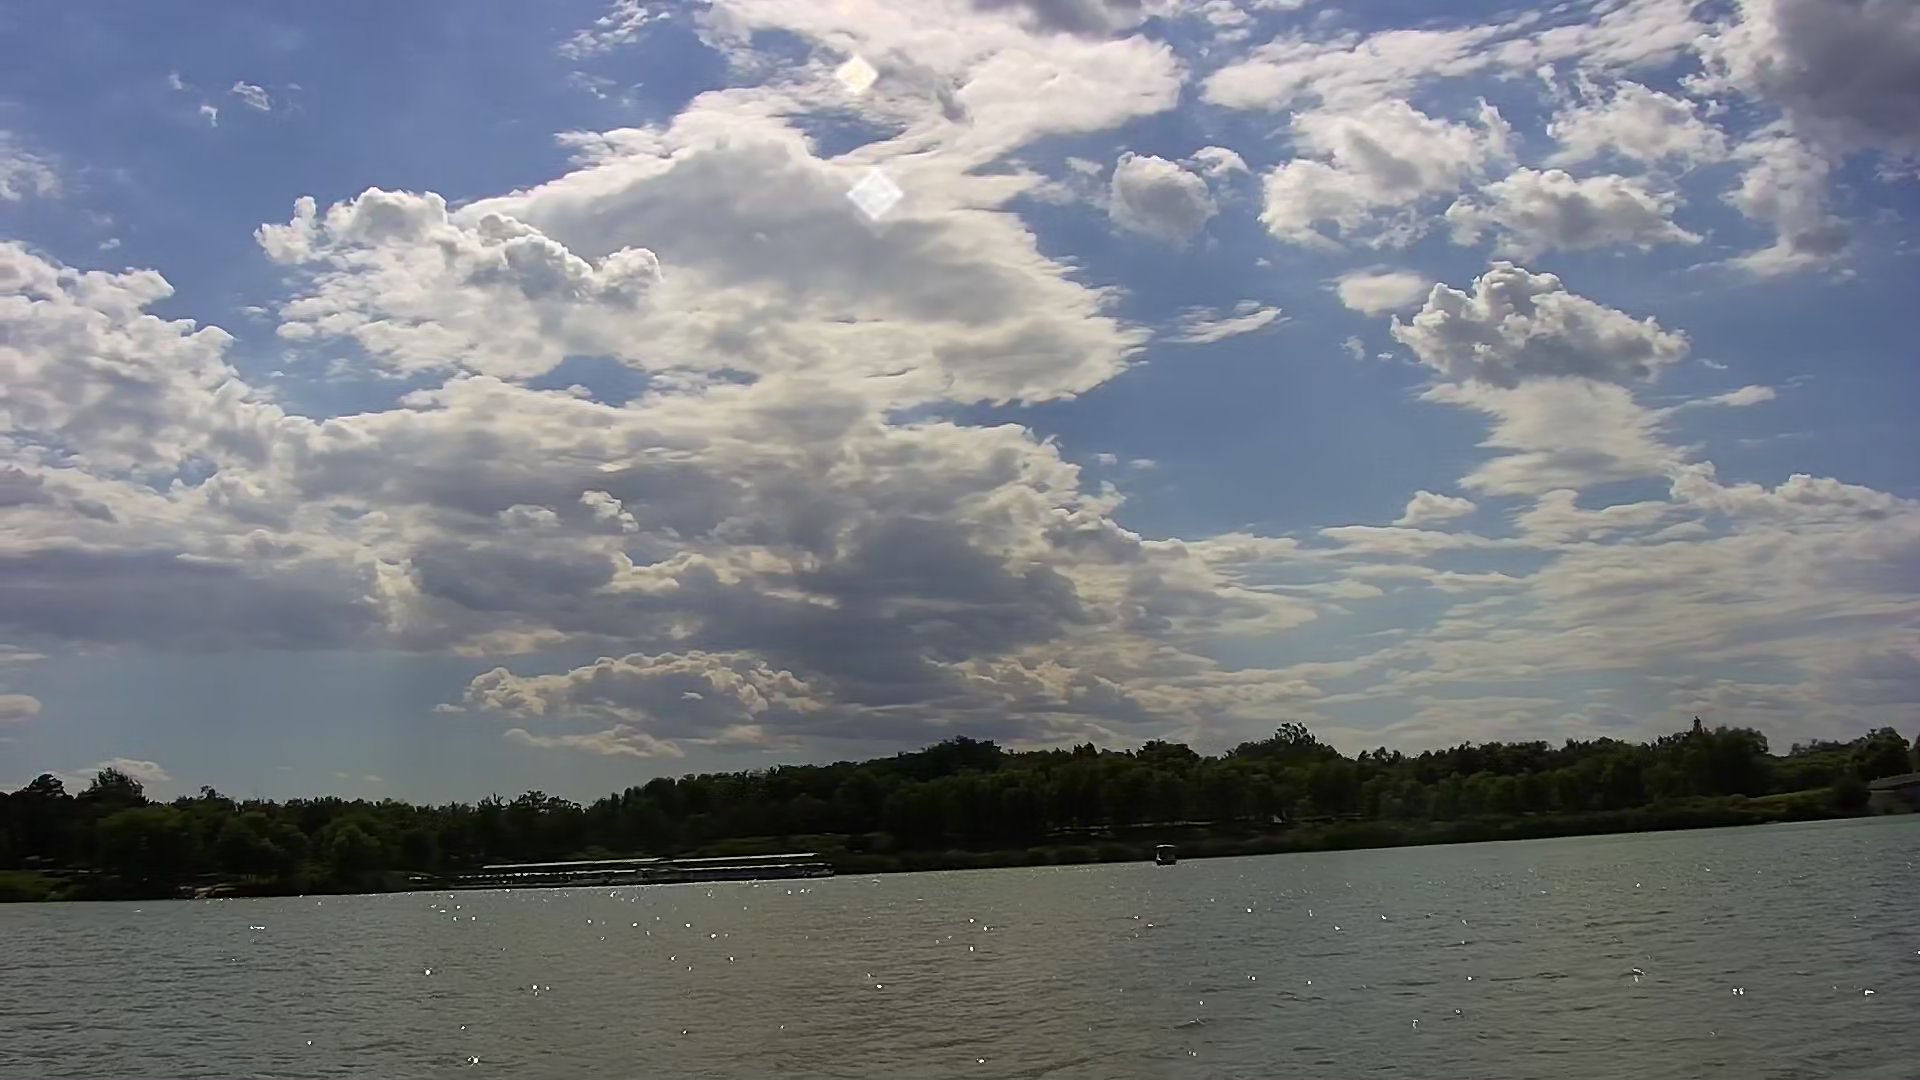boat: (1149, 836, 1182, 868)
harbor: (469, 851, 840, 894)
